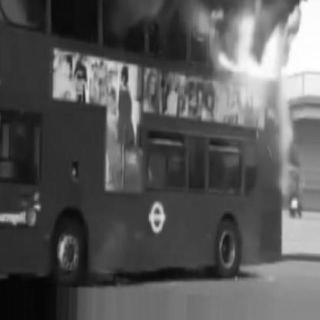Fire: (212, 2, 302, 112)
